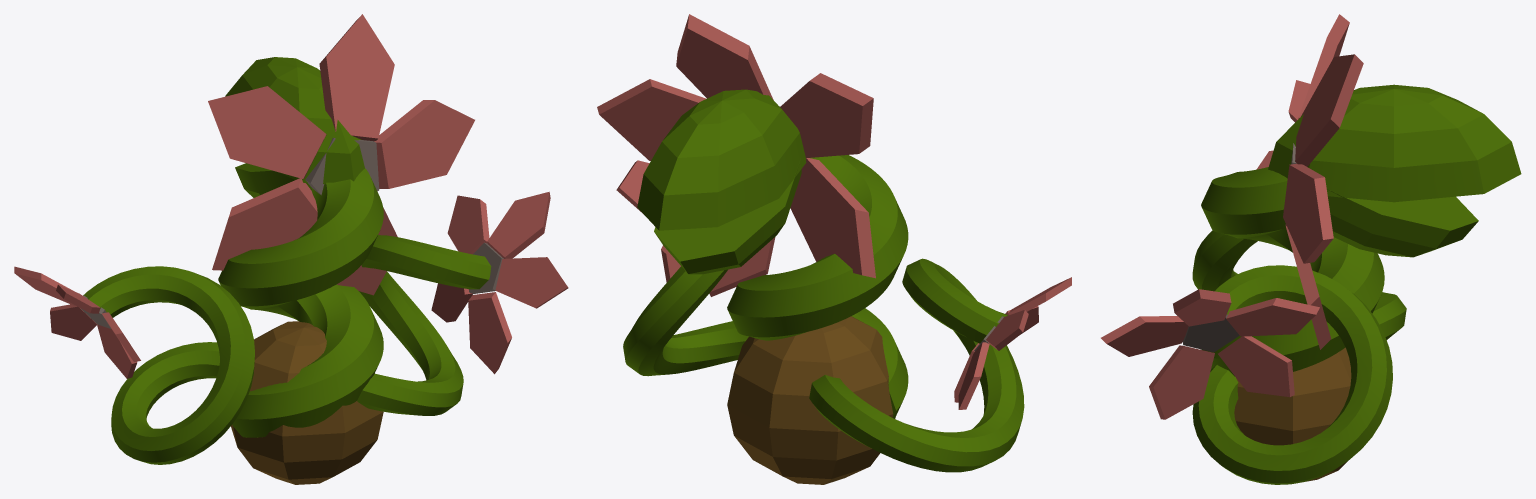
File: plantsEnemy.fbx
3 renders of one model, left to right at view 1: azimuth 30°, elevation 25°; view 2: azimuth 150°, elevation 25°; view 3: azimuth 270°, elevation 25°, orthographic. The views are drawn at different scales.
Visible parts, largest first — view 1: pHelix2; view 2: pHelix2; view 3: pHelix2.
Boxes of the visible parts, <box> form: pHelix2: <box>14,14,568,484</box>; pHelix2: <box>597,14,1071,484</box>; pHelix2: <box>1101,14,1521,484</box>.
Size of the model in its own units: 6.21 by 5.62 by 4.58.
